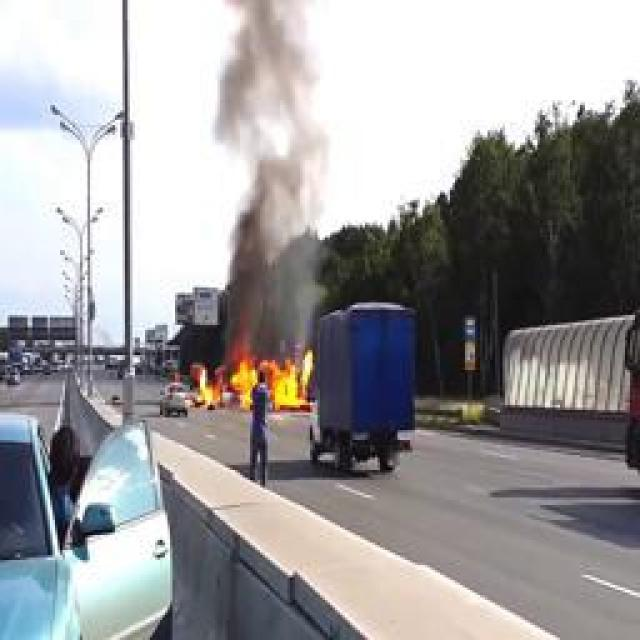Fire: (196, 348, 314, 406)
